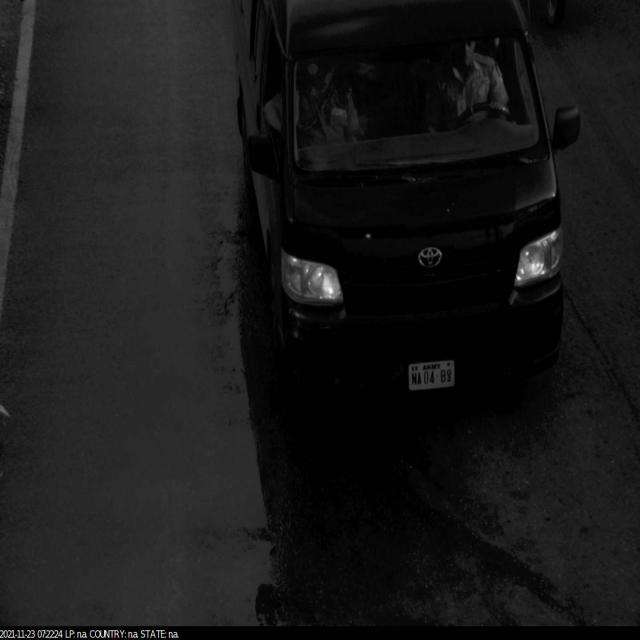windshield: (291, 7, 538, 165)
